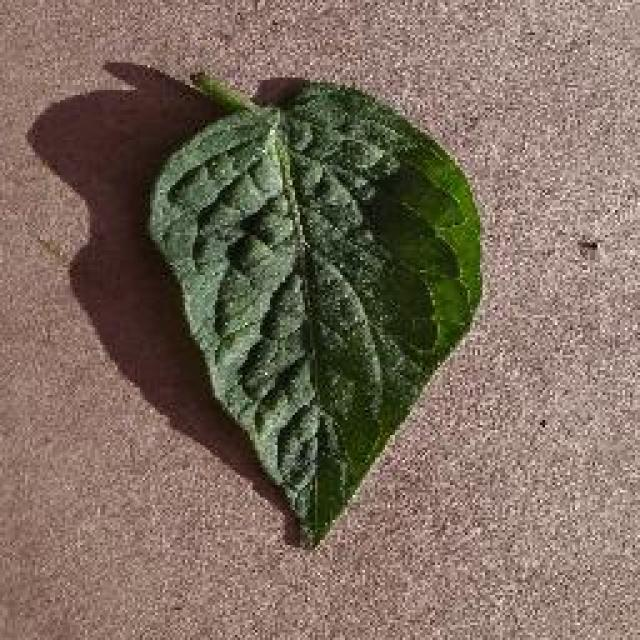Tomato___Spider_mites Two-spotted_spider_mite: (150, 78, 480, 542)
